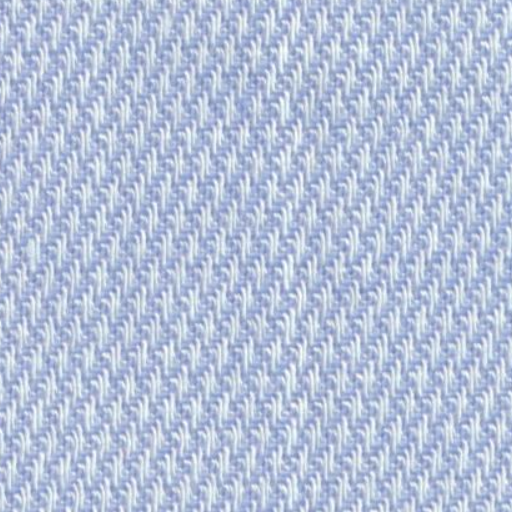TuoSha: (242, 6, 340, 502)
